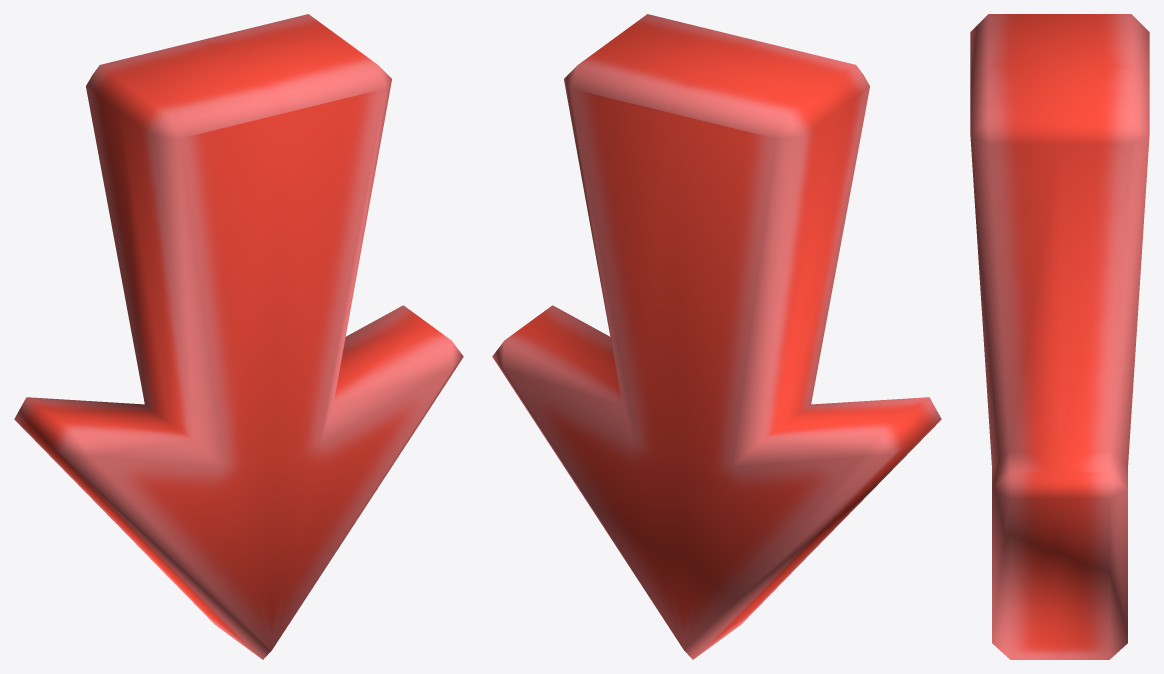
Rendered from arrow.gltf.
3 views of the same model, side by side, from view 1: azimuth 30°, elevation 25°; view 2: azimuth 150°, elevation 25°; view 3: azimuth 270°, elevation 25° (orthographic). The views are drawn at different scales.
Visible parts, largest first — view 1: ArrowMesh; view 2: ArrowMesh; view 3: ArrowMesh.
Part boxes in pixels (left/top/right/bottom): ArrowMesh: left=14, top=14, right=463, bottom=659; ArrowMesh: left=492, top=14, right=941, bottom=659; ArrowMesh: left=970, top=14, right=1149, bottom=659.
Size of the model in its own units: 0.7276 by 0.9998 by 0.2735.
Materials: 1 (1 with a texture image).
